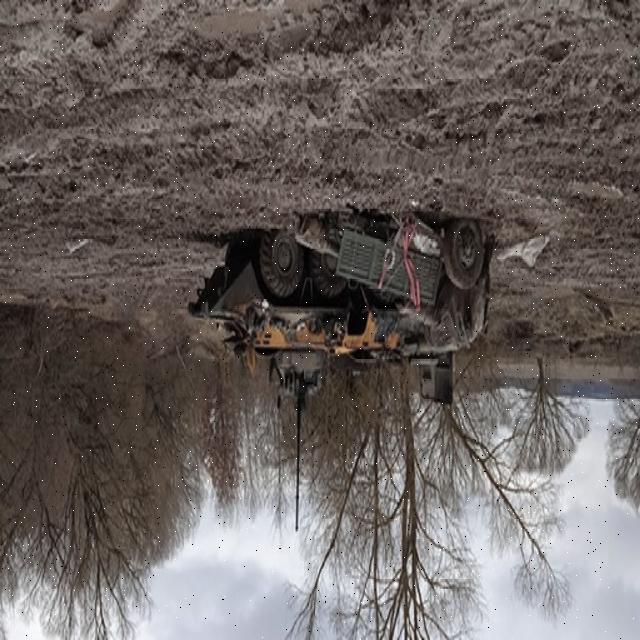APC-IFV: (186, 222, 485, 538)
ART: (293, 218, 492, 352)
